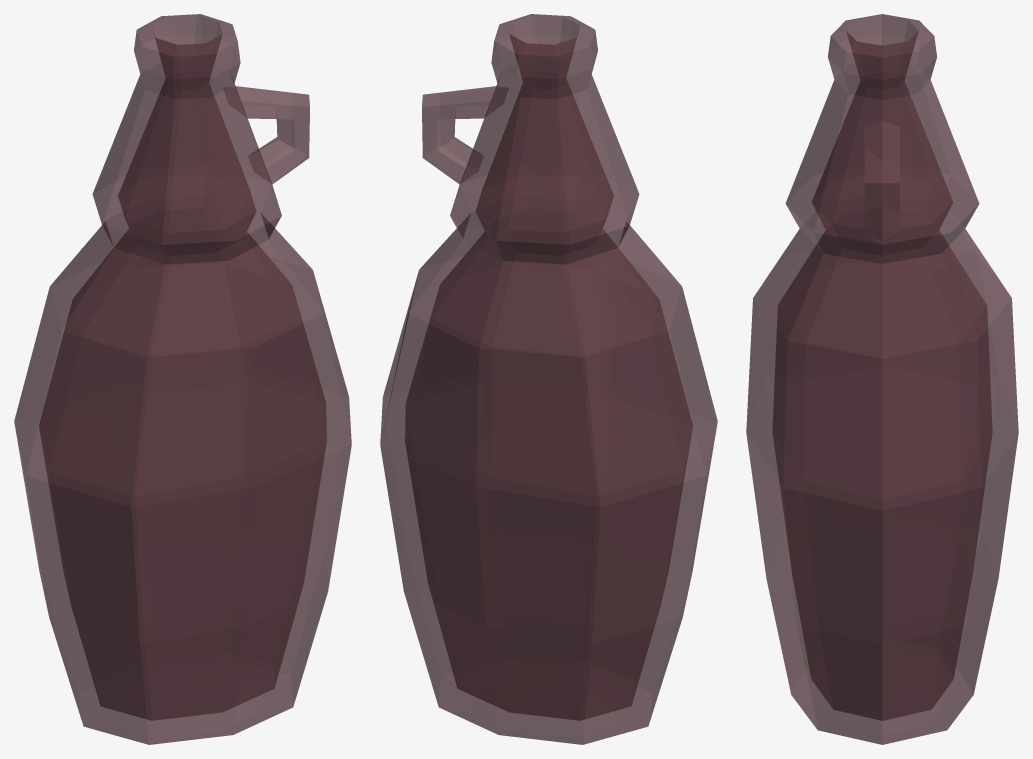
File: jar-syrup-empty.fbx
3 renders of one model, left to right at view 1: azimuth 30°, elevation 25°; view 2: azimuth 150°, elevation 25°; view 3: azimuth 270°, elevation 25°, orthographic.
Visible parts, largest first — view 1: jar-syrup-empty; view 2: jar-syrup-empty; view 3: jar-syrup-empty.
Boxes of the visible parts, left/top/right/bottom form: jar-syrup-empty: left=14, top=14, right=351, bottom=744; jar-syrup-empty: left=380, top=14, right=717, bottom=744; jar-syrup-empty: left=746, top=14, right=1018, bottom=744.
Bounding box in the file's own units: 0.1062 × 0.2131 × 0.0782.
